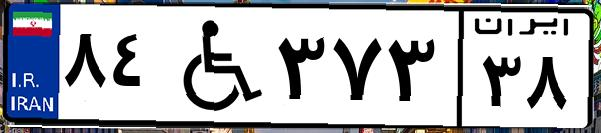3: (270, 28, 330, 110), (385, 28, 445, 110), (475, 38, 525, 113)
4: (110, 28, 158, 98)
7: (330, 28, 385, 110)
8: (57, 26, 110, 100), (525, 38, 570, 115)
ژ (معلولین و جانبازان): (158, 12, 270, 120)
